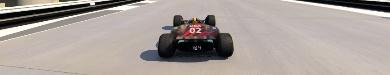Car: (157, 14, 233, 57)
curve: (0, 0, 389, 74)
obstacles-Borders: (0, 0, 146, 31)
